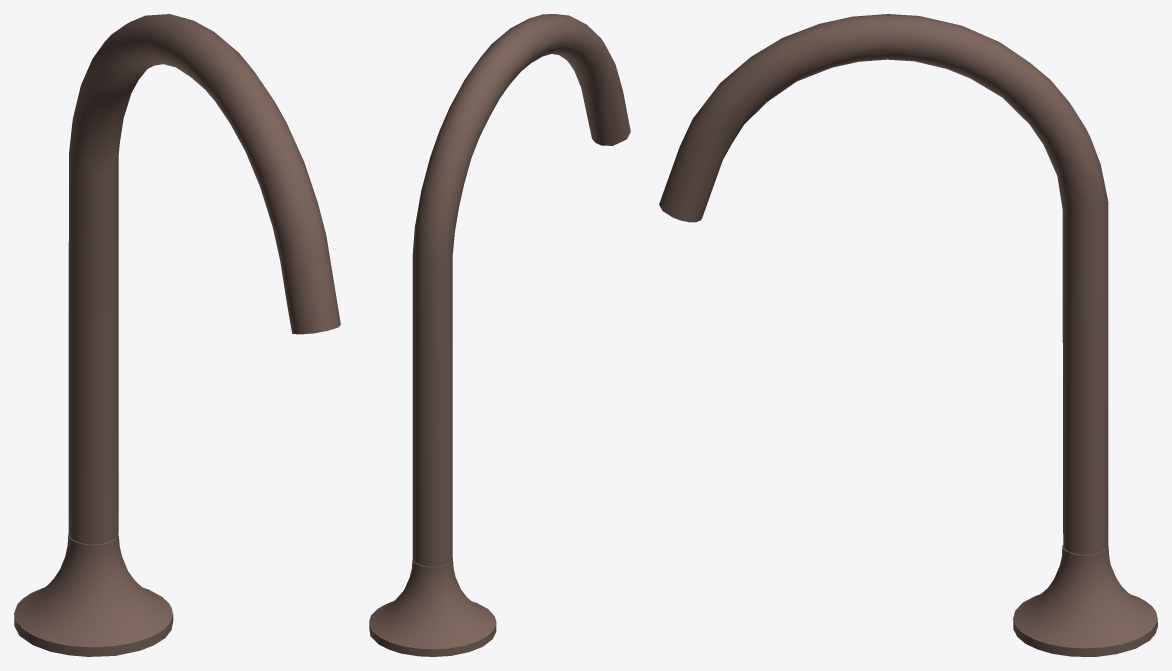
3 views of the same model, side by side, from view 1: azimuth 30°, elevation 25°; view 2: azimuth 150°, elevation 25°; view 3: azimuth 270°, elevation 25° (orthographic). The views are drawn at different scales.
Visible parts, largest first — view 1: L_5d4efa89_779e_4f6f_84eb_1e48ffb96715_I2, L_afde61bf_8ec3_4fd9_a7a9_9b6805504fb0_I3; view 2: L_5d4efa89_779e_4f6f_84eb_1e48ffb96715_I2, L_afde61bf_8ec3_4fd9_a7a9_9b6805504fb0_I3; view 3: L_5d4efa89_779e_4f6f_84eb_1e48ffb96715_I2, L_afde61bf_8ec3_4fd9_a7a9_9b6805504fb0_I3.
Boxes of the visible parts, x1=… form: L_5d4efa89_779e_4f6f_84eb_1e48ffb96715_I2: x1=68, y1=14, x2=340, y2=543; L_afde61bf_8ec3_4fd9_a7a9_9b6805504fb0_I3: x1=14, y1=534, x2=173, y2=656; L_5d4efa89_779e_4f6f_84eb_1e48ffb96715_I2: x1=412, y1=14, x2=630, y2=566; L_afde61bf_8ec3_4fd9_a7a9_9b6805504fb0_I3: x1=369, y1=558, x2=496, y2=656; L_5d4efa89_779e_4f6f_84eb_1e48ffb96715_I2: x1=659, y1=14, x2=1108, y2=554; L_afde61bf_8ec3_4fd9_a7a9_9b6805504fb0_I3: x1=1013, y1=545, x2=1157, y2=656.
Bounding box in the file's own units: 0.0601 × 0.2802 × 0.2075.
